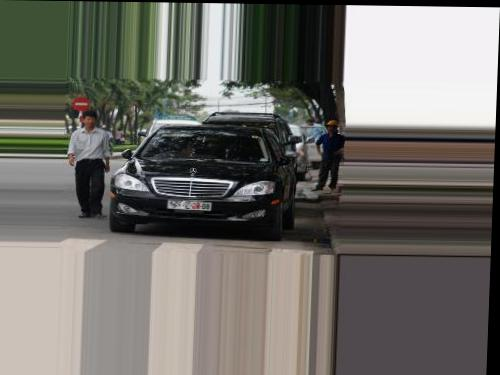License_Plate: (166, 200, 212, 210)
